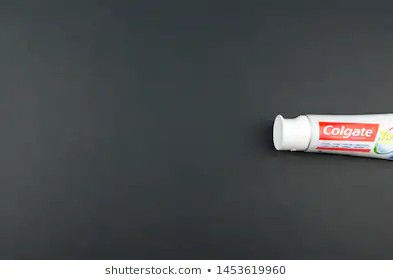colgate-total-150gm: (266, 105, 393, 171)
